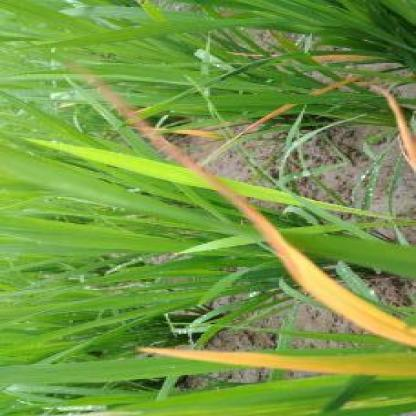Tungro: (222, 187, 416, 349), (138, 347, 416, 377)
